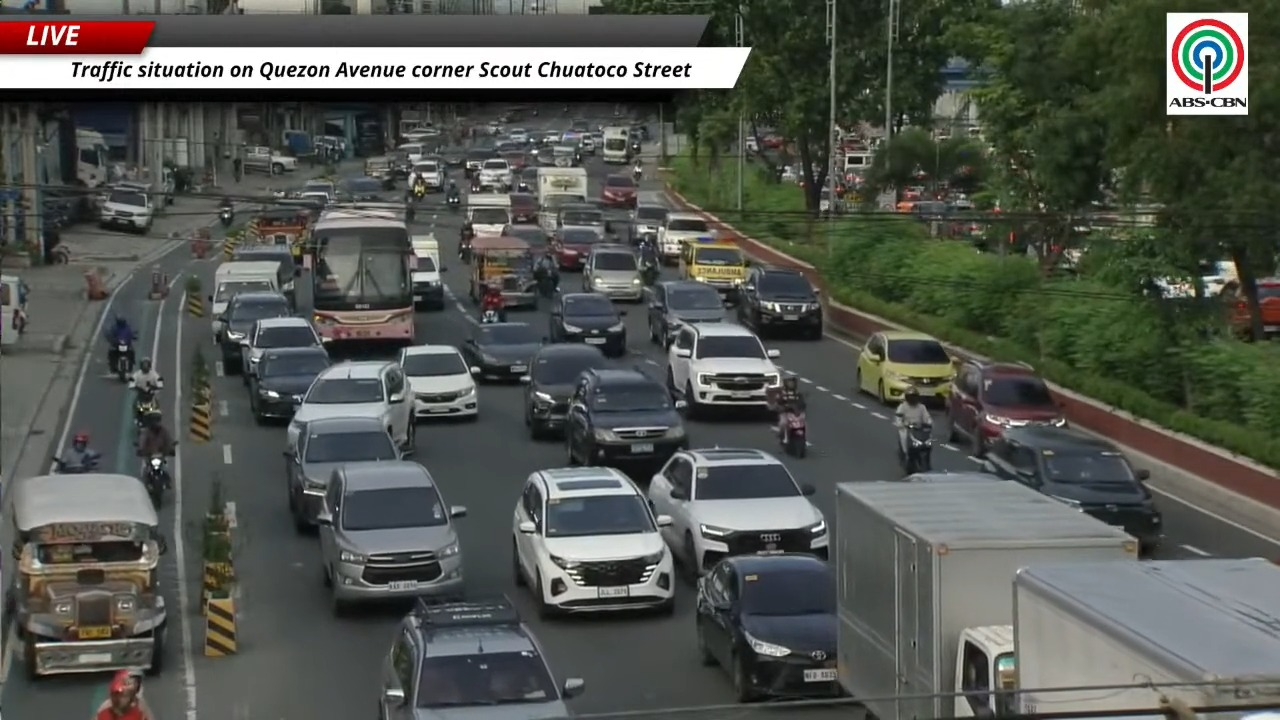bus: (309, 203, 414, 345), (600, 127, 630, 163)
car: (378, 598, 584, 719), (513, 467, 675, 616), (648, 448, 829, 576), (316, 460, 465, 615), (982, 425, 1162, 550), (695, 553, 840, 701), (284, 417, 401, 530), (564, 368, 688, 467), (946, 359, 1067, 457), (287, 360, 415, 452), (667, 323, 781, 414), (521, 344, 607, 439), (854, 330, 954, 403), (736, 266, 823, 339), (249, 347, 331, 422), (398, 344, 478, 419), (218, 292, 291, 374), (241, 316, 322, 385), (647, 281, 725, 347), (549, 293, 626, 356), (461, 322, 543, 379), (231, 243, 301, 301), (582, 245, 643, 301), (99, 186, 158, 233), (657, 212, 710, 264), (551, 227, 604, 271), (460, 204, 509, 243), (557, 202, 610, 236), (630, 203, 668, 243), (338, 177, 399, 201), (1255, 277, 1279, 337), (502, 224, 549, 254), (601, 174, 638, 208), (478, 157, 513, 191), (902, 470, 1000, 482), (411, 159, 445, 192), (464, 148, 497, 180), (502, 144, 527, 185), (509, 192, 538, 223), (515, 154, 537, 192), (580, 133, 597, 155), (507, 128, 529, 144), (570, 118, 590, 134)
motorcycle: (898, 423, 933, 474), (143, 454, 170, 508), (778, 410, 807, 457), (134, 381, 162, 425), (52, 453, 100, 473), (111, 342, 133, 382), (641, 260, 660, 287), (480, 309, 500, 323), (219, 207, 233, 227), (412, 183, 427, 200), (447, 194, 460, 212), (470, 174, 480, 193), (405, 203, 415, 222), (516, 181, 531, 193), (633, 165, 642, 183), (630, 142, 641, 155)
truck: (832, 480, 1137, 719), (1003, 558, 1279, 717), (537, 167, 587, 232), (75, 128, 108, 187)
